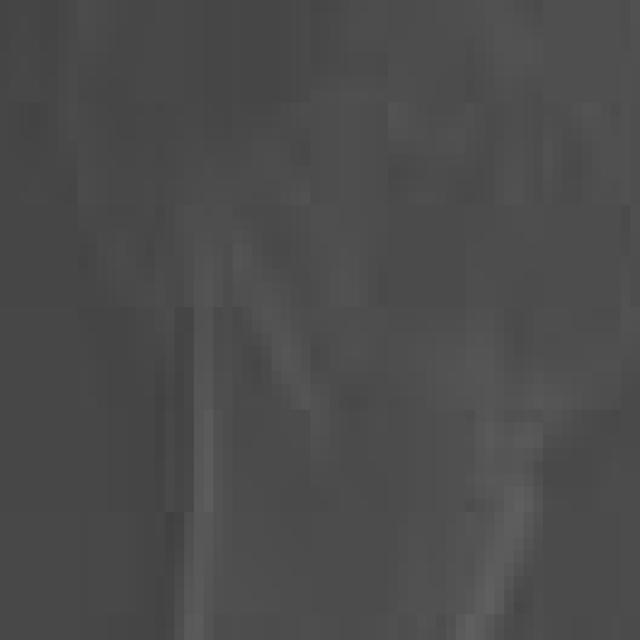fracture: (2, 1, 640, 636)
